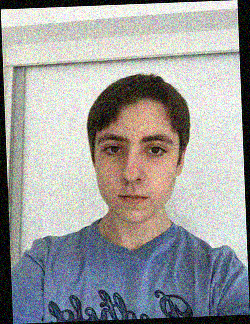without_mask: (94, 123, 178, 224)
